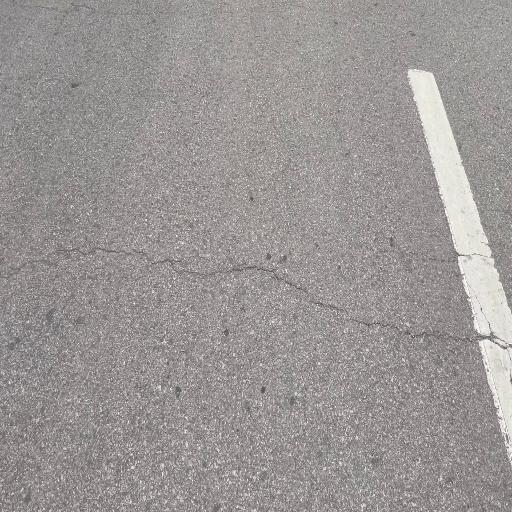Melintang: (0, 232, 512, 361)
